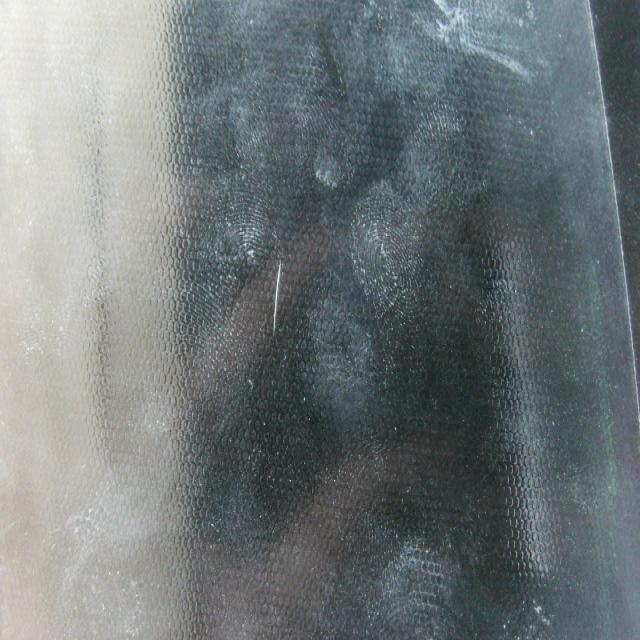scratch: (263, 250, 295, 352)
